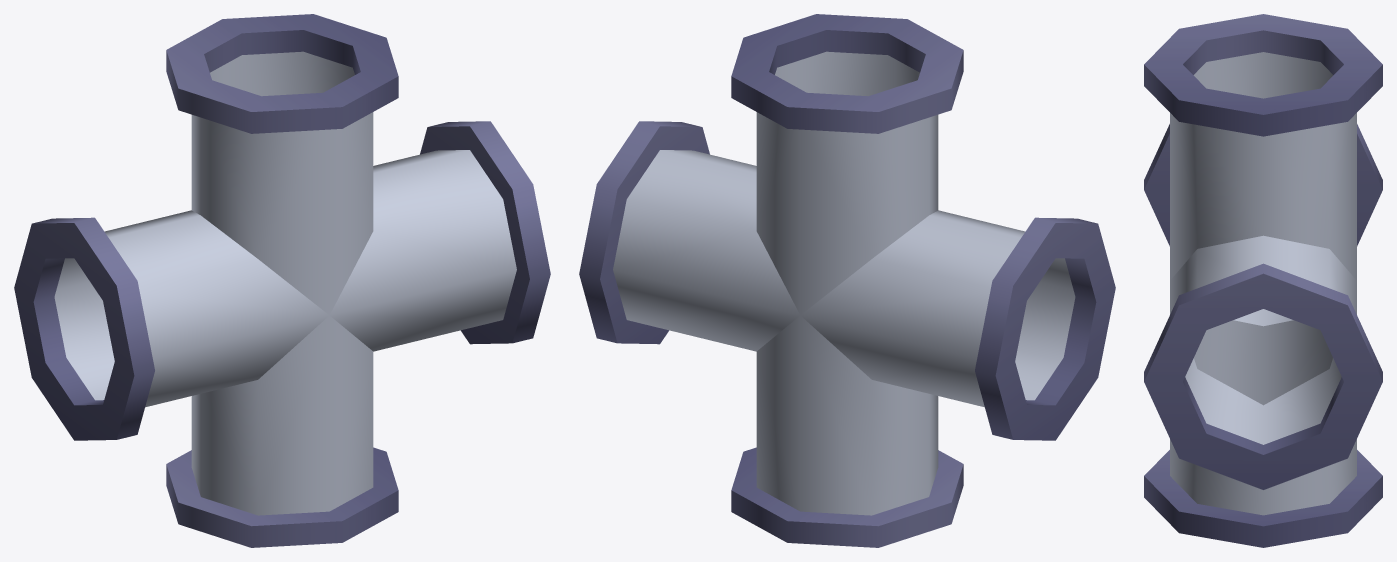
The model's file is kenney-factory-pipe-glass-large-cross.glb.
3 views of the same model, side by side, from view 1: azimuth 30°, elevation 25°; view 2: azimuth 150°, elevation 25°; view 3: azimuth 270°, elevation 25° (orthographic).
Visible parts, largest first — view 1: pipe-glass-large-cross; view 2: pipe-glass-large-cross; view 3: pipe-glass-large-cross.
Boxes of the visible parts, box(x1,y1,x2,y2) form: pipe-glass-large-cross: box(14, 14, 550, 547); pipe-glass-large-cross: box(579, 14, 1115, 547); pipe-glass-large-cross: box(1144, 14, 1382, 547).
Size of the model in its own units: 2 by 2 by 1.
Materials: 2 (1 with a texture image).
